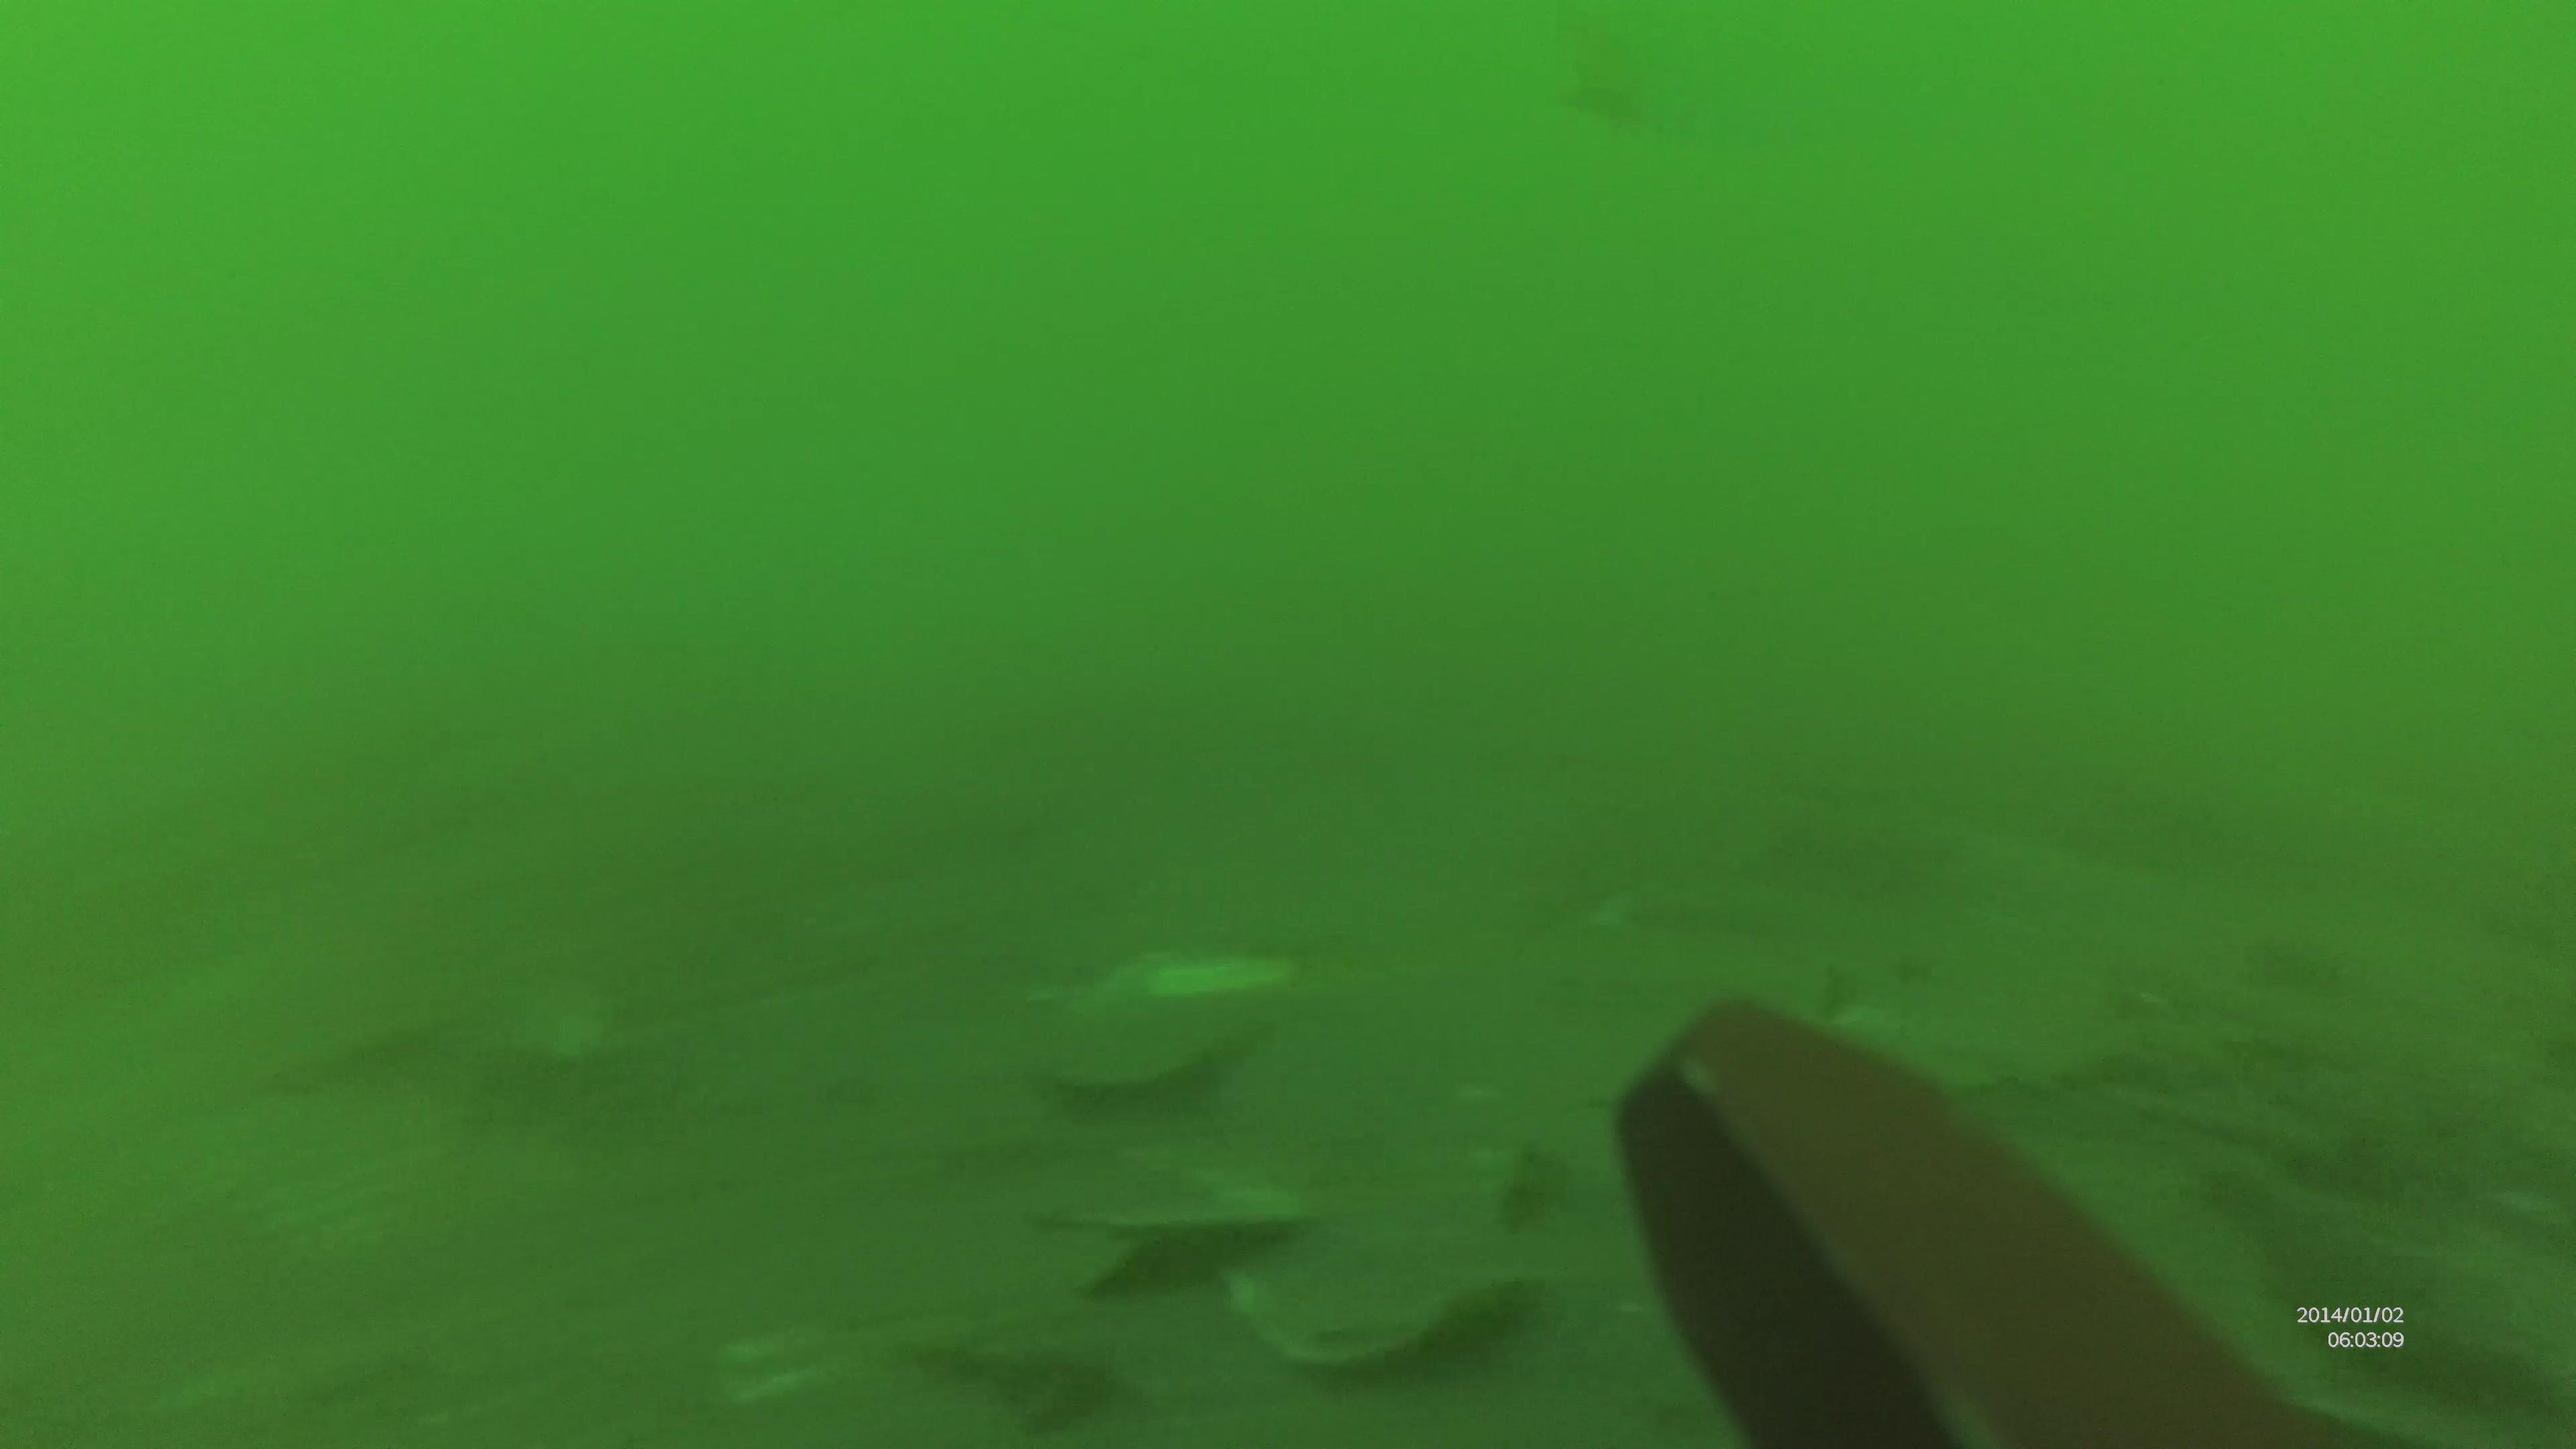scallop: (1039, 950, 1288, 1092)
